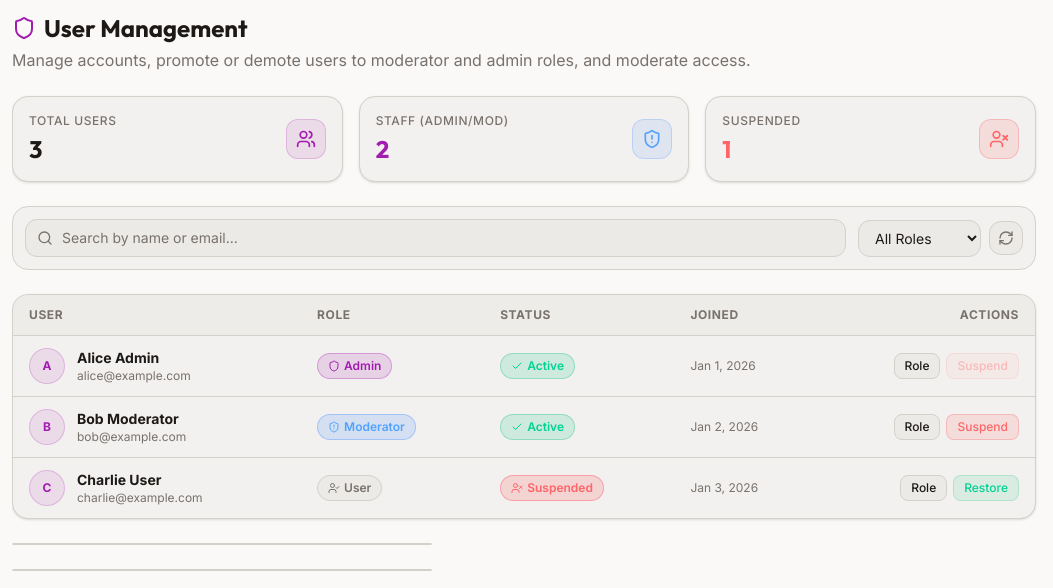
Scenario: AdminUsersSettingsPage.vue › filters user list by role filter
The width and height of the screenshot is (1053, 588).
Select "Moderators" in the dropdown: {"x": 920, "y": 238} [858,220,981,256]
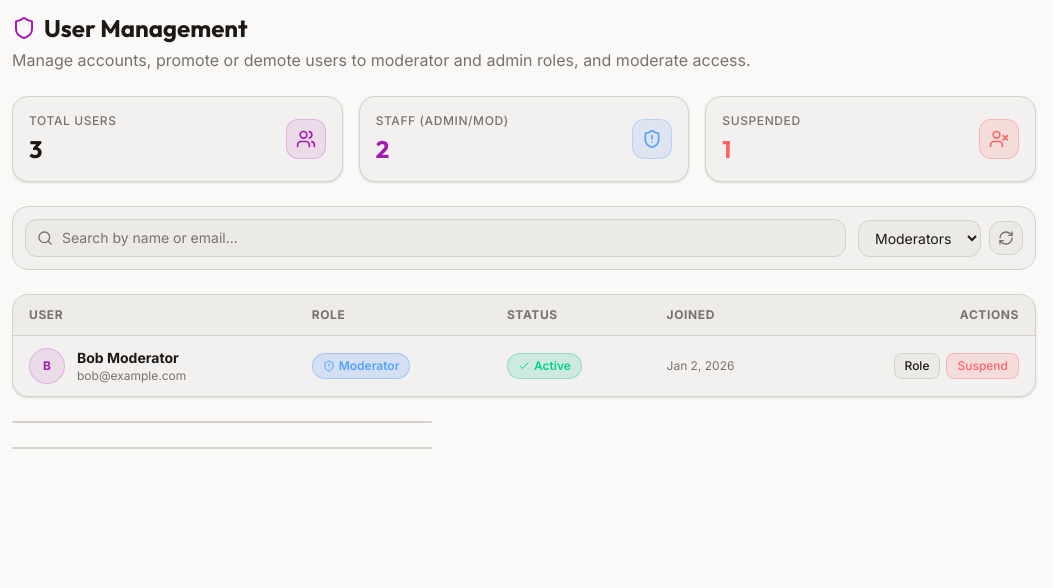
Expected: the text "Bob Moderator" is shown, [77,348,179,368]
Expected: the text "Alice Admin" is gone
Expected: the text "Charlie User" is gone
